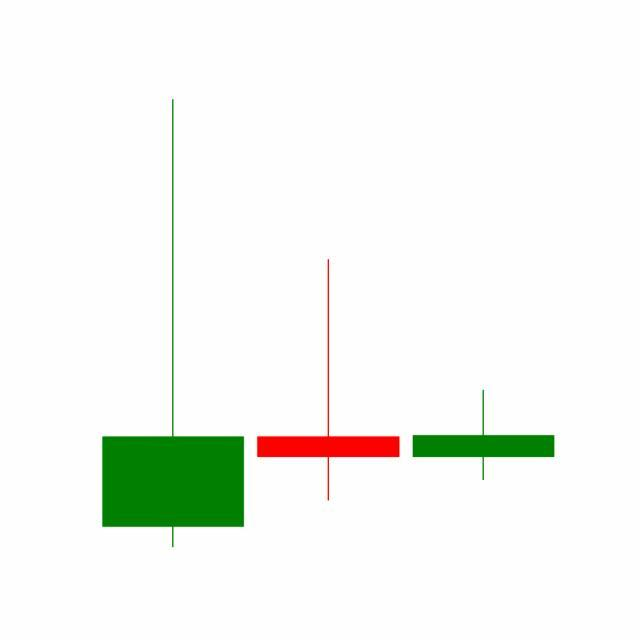Spinning Top: (250, 256, 407, 504)
